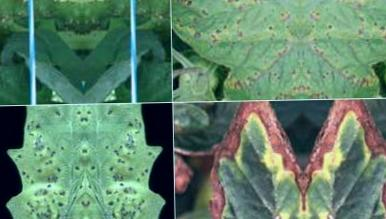Tomato leaf bacterial spot: (183, 105, 306, 219), (175, 0, 302, 92), (83, 104, 166, 219)
